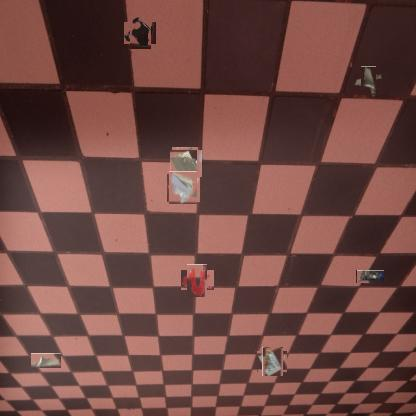dirty: (168, 173, 199, 203), (171, 148, 201, 178), (260, 349, 285, 374), (357, 70, 380, 92), (31, 353, 61, 368), (356, 270, 384, 283)
liquid: (184, 267, 211, 294), (127, 20, 154, 46)
